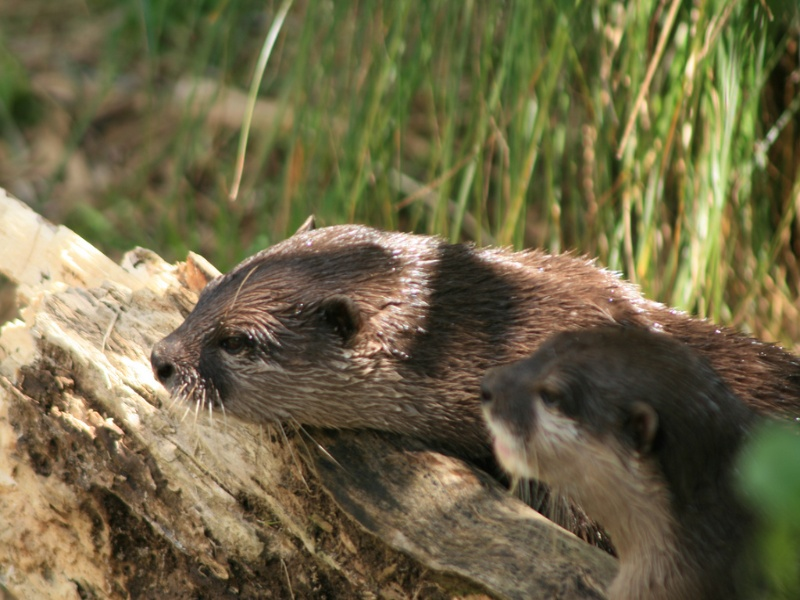minkish: (151, 205, 797, 475), (476, 326, 793, 586)
